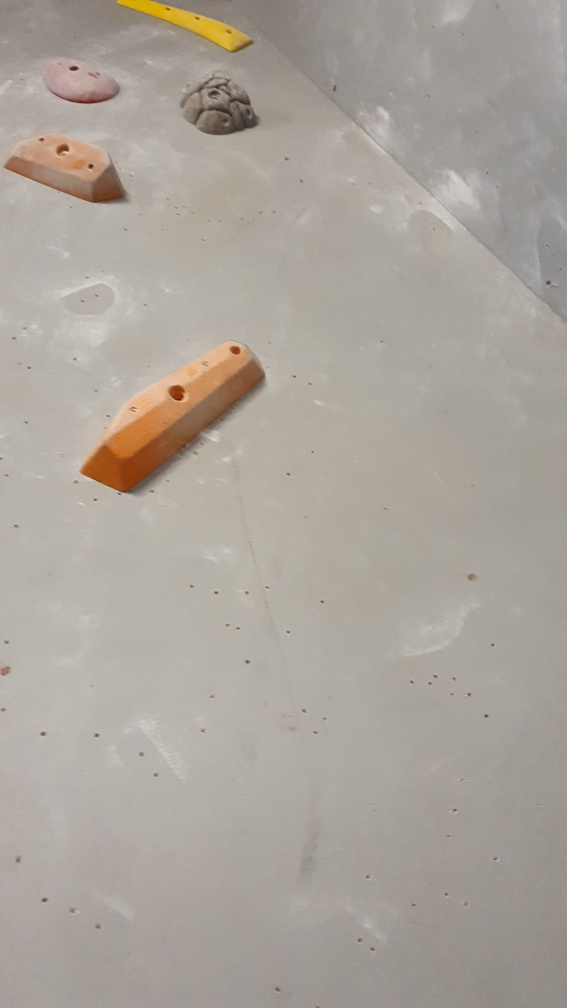Crimp: (118, 1, 255, 59)
Jug: (175, 71, 268, 141)
Pinch: (78, 335, 267, 494), (1, 124, 130, 207)
